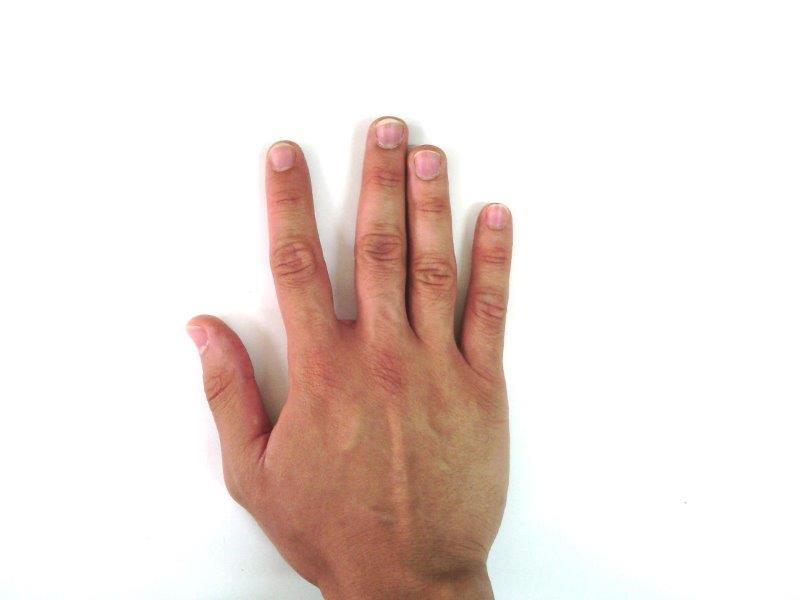hand: (186, 116, 512, 567)
